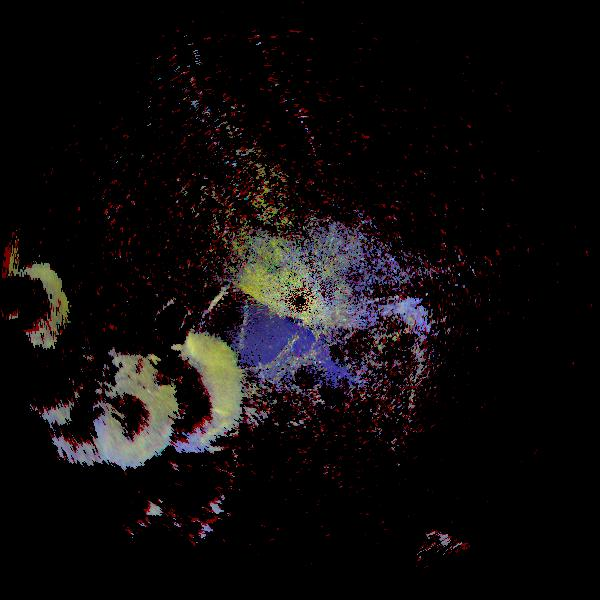roost: (93, 301, 276, 484), (47, 333, 206, 492), (24, 367, 144, 487), (11, 351, 98, 438)
